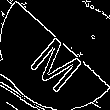M_NE: (23, 21, 87, 89)
